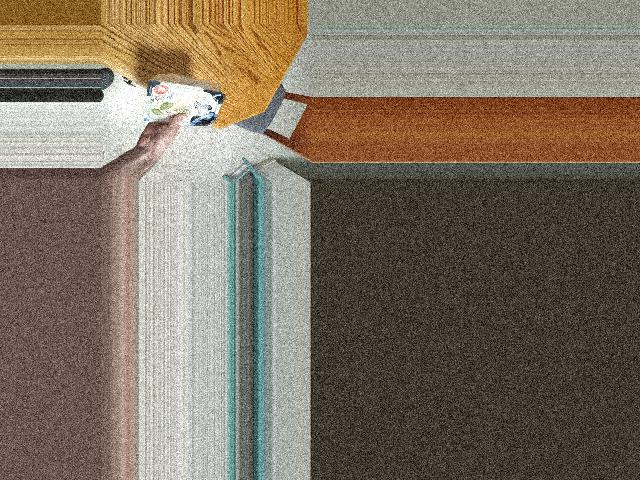cheese: (147, 78, 220, 134)
